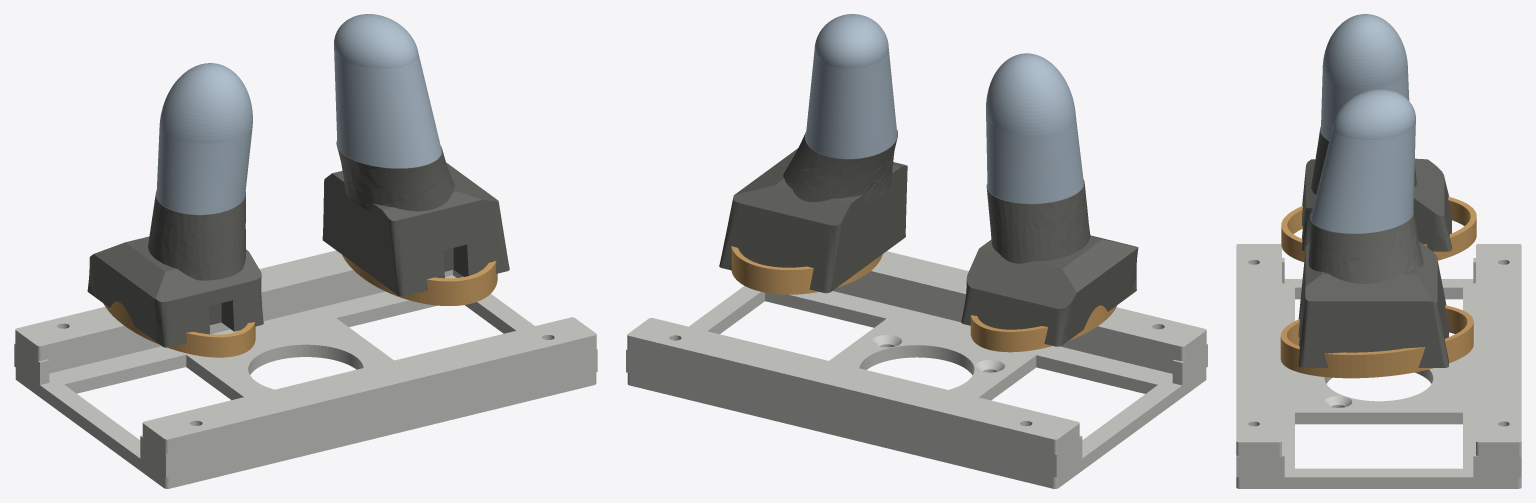
The model's file is soft_addons_with_reference_frame.glb.
3 views of the same model, side by side, from view 1: azimuth 30°, elevation 25°; view 2: azimuth 150°, elevation 25°; view 3: azimuth 270°, elevation 25° (orthographic). The views are drawn at different scales.
Visible parts, largest first — view 1: reference_frame, foam_R, reference_cap_front, foam_L, cot_R, cot_L, reference_cap_back, band_R, band_L; view 2: reference_frame, foam_R, foam_L, reference_cap_back, cot_L, cot_R, reference_cap_front, band_R, band_L; view 3: reference_frame, foam_R, cot_R, reference_cap_back, reference_cap_front, cot_L, band_R, foam_L, band_L.
Boxes of the visible parts, left/top/right/bottom form: reference_frame: left=14, top=269, right=597, bottom=488; foam_R: left=322, top=141, right=509, bottom=296; reference_cap_front: left=142, top=317, right=596, bottom=454; foam_L: left=87, top=191, right=263, bottom=347; cot_R: left=334, top=14, right=441, bottom=168; cot_L: left=156, top=63, right=252, bottom=214; reference_cap_back: left=15, top=250, right=366, bottom=360; band_R: left=342, top=255, right=497, bottom=305; band_L: left=103, top=301, right=255, bottom=357; reference_frame: left=626, top=281, right=1207, bottom=488; foam_R: left=719, top=130, right=907, bottom=293; foam_L: left=961, top=179, right=1138, bottom=346; reference_cap_back: left=627, top=318, right=1079, bottom=454; cot_L: left=986, top=53, right=1083, bottom=203; cot_R: left=805, top=14, right=897, bottom=158; reference_cap_front: left=854, top=251, right=1206, bottom=361; band_R: left=731, top=246, right=882, bottom=294; band_L: left=970, top=305, right=1116, bottom=352; reference_frame: left=1236, top=258, right=1521, bottom=488; foam_R: left=1298, top=209, right=1448, bottom=367; cot_R: left=1311, top=89, right=1415, bottom=233; reference_cap_back: left=1476, top=244, right=1521, bottom=456; reference_cap_front: left=1236, top=244, right=1281, bottom=456; cot_L: left=1321, top=14, right=1409, bottom=140; band_R: left=1280, top=305, right=1473, bottom=378; foam_L: left=1302, top=126, right=1451, bottom=251; band_L: left=1281, top=196, right=1476, bottom=262.
Size of the model in its own units: 0.092 by 0.0707 by 0.056.
